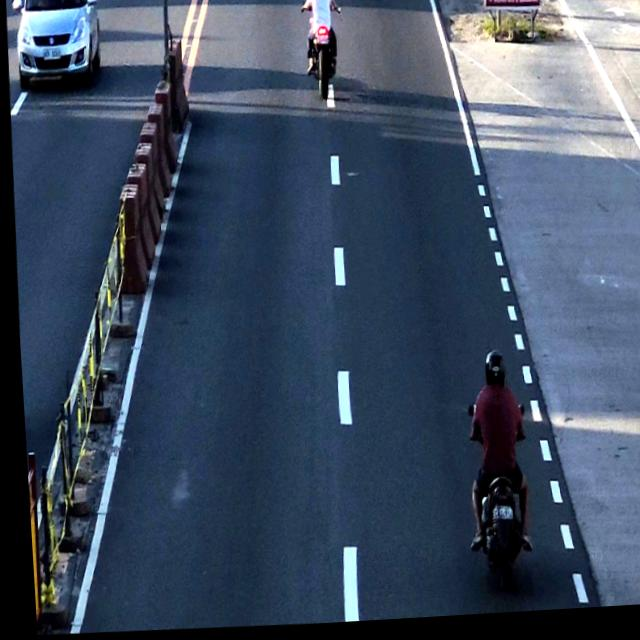License-Plate: (481, 506, 509, 526)
Motorcycle: (451, 348, 535, 608), (297, 0, 343, 101)
